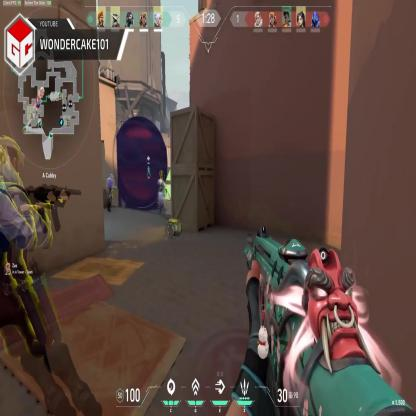enemy: (0, 133, 66, 407), (156, 171, 168, 217), (106, 172, 116, 215)
enemy_head: (0, 134, 21, 181), (160, 171, 164, 181), (110, 174, 113, 182)
